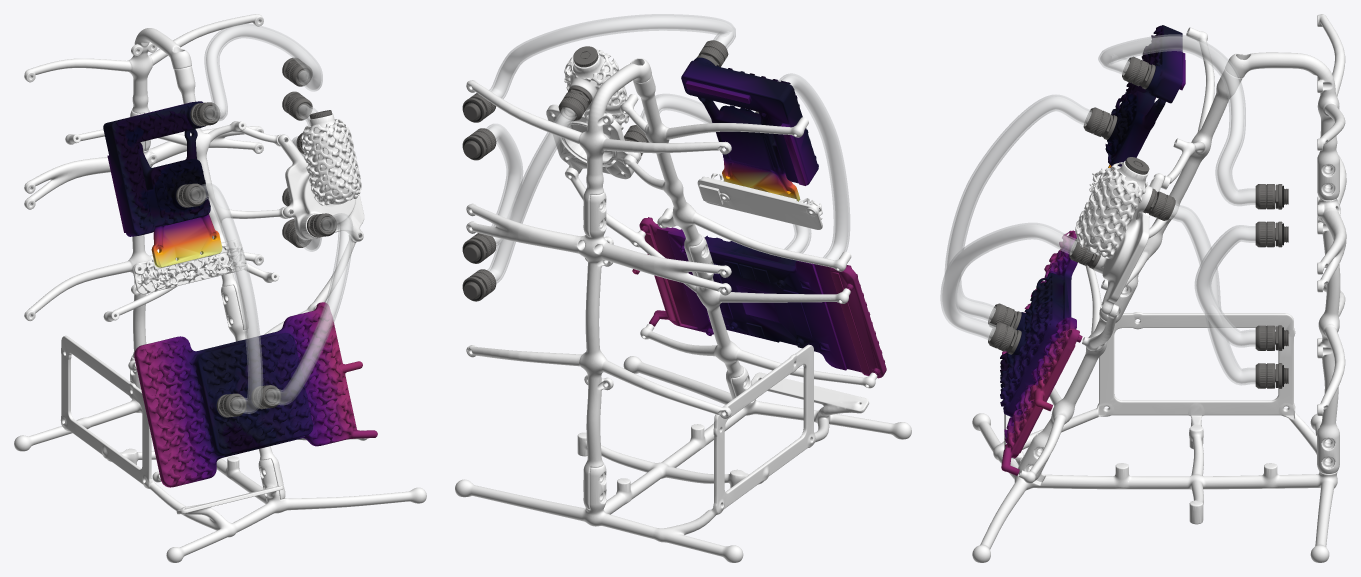
File: marrow.glb
The picture shows the model from 3 angles, left to right: view 1: azimuth 30°, elevation 25°; view 2: azimuth 150°, elevation 25°; view 3: azimuth 270°, elevation 25°; orthographic projection. The views are drawn at different scales.
Parts seen in each view (by area): view 1: gpu_block, frame_pelvis, monoblock, heart, frame_dorsal, frame_thoracic, frame_cervical, T2_gpu_mono_wall, T1_heart_gpu_wall, T3_mono_radA_wall, m2_sink, T2_gpu_mono_liquid (+10 smaller); view 2: frame_pelvis, gpu_block, frame_dorsal, monoblock, frame_thoracic, frame_lumbar, frame_cervical, T3_mono_radA_wall, heart, T3_mono_radA_liquid, T2_gpu_mono_wall, m2_sink (+12 smaller); view 3: frame_pelvis, gpu_block, heart, frame_dorsal, monoblock, T3_mono_radA_wall, frame_cervical, frame_thoracic, T2_gpu_mono_wall, frame_lumbar, T1_heart_gpu_wall, T3_mono_radA_liquid (+15 smaller).
Boxes of the visible parts, box(x1,y1,x2,y2) form: gpu_block: box(134, 302, 377, 487); frame_pelvis: box(14, 335, 426, 562); monoblock: box(103, 101, 222, 267); heart: box(278, 114, 364, 241); frame_dorsal: box(24, 110, 263, 358); frame_thoracic: box(65, 66, 289, 330); frame_cervical: box(24, 14, 263, 150); T2_gpu_mono_wall: box(190, 183, 262, 413); T1_heart_gpu_wall: box(265, 213, 352, 404); T3_mono_radA_wall: box(204, 23, 322, 121); m2_sink: box(132, 240, 246, 294); T2_gpu_mono_liquid: box(197, 185, 260, 411); frame_pelvis: box(455, 344, 911, 562); gpu_block: box(632, 217, 886, 378); frame_dorsal: box(466, 191, 731, 509); monoblock: box(681, 57, 818, 201); frame_thoracic: box(605, 75, 851, 276); frame_lumbar: box(565, 167, 877, 399); frame_cervical: box(466, 58, 731, 236); T3_mono_radA_wall: box(489, 14, 735, 98); heart: box(546, 49, 641, 179); T3_mono_radA_liquid: box(491, 16, 733, 97); T2_gpu_mono_wall: box(779, 73, 849, 259); m2_sink: box(697, 173, 822, 229); frame_pelvis: box(972, 312, 1339, 562); gpu_block: box(1000, 230, 1082, 475); heart: box(1075, 161, 1164, 314); frame_dorsal: box(1317, 154, 1346, 473); monoblock: box(1105, 25, 1185, 170); T3_mono_radA_wall: box(1098, 34, 1255, 205); frame_cervical: box(1225, 14, 1345, 200); frame_thoracic: box(1099, 27, 1242, 323); T2_gpu_mono_wall: box(945, 94, 1091, 321); frame_lumbar: box(1018, 265, 1138, 483); T1_heart_gpu_wall: box(940, 223, 1076, 340); T3_mono_radA_liquid: box(1100, 36, 1255, 203).
Size of the model in its own units: 0.2679 by 0.3935 by 0.3122.
